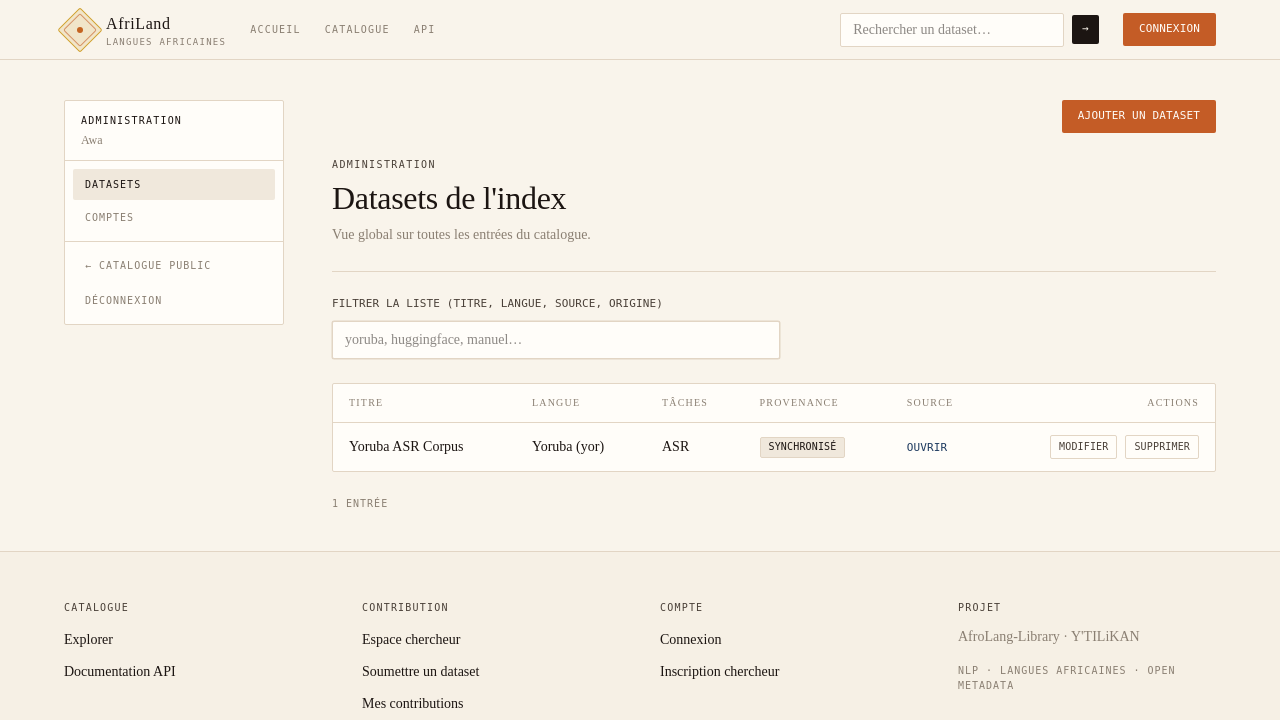
Test: DatasetAdminPanel (Story 4.3) › supprime un dataset après confirmation puis recharge la liste
Click the button with aria-label "Supprimer Yoruba ASR Corpus": [1162, 447] box [1126,435,1199,459]
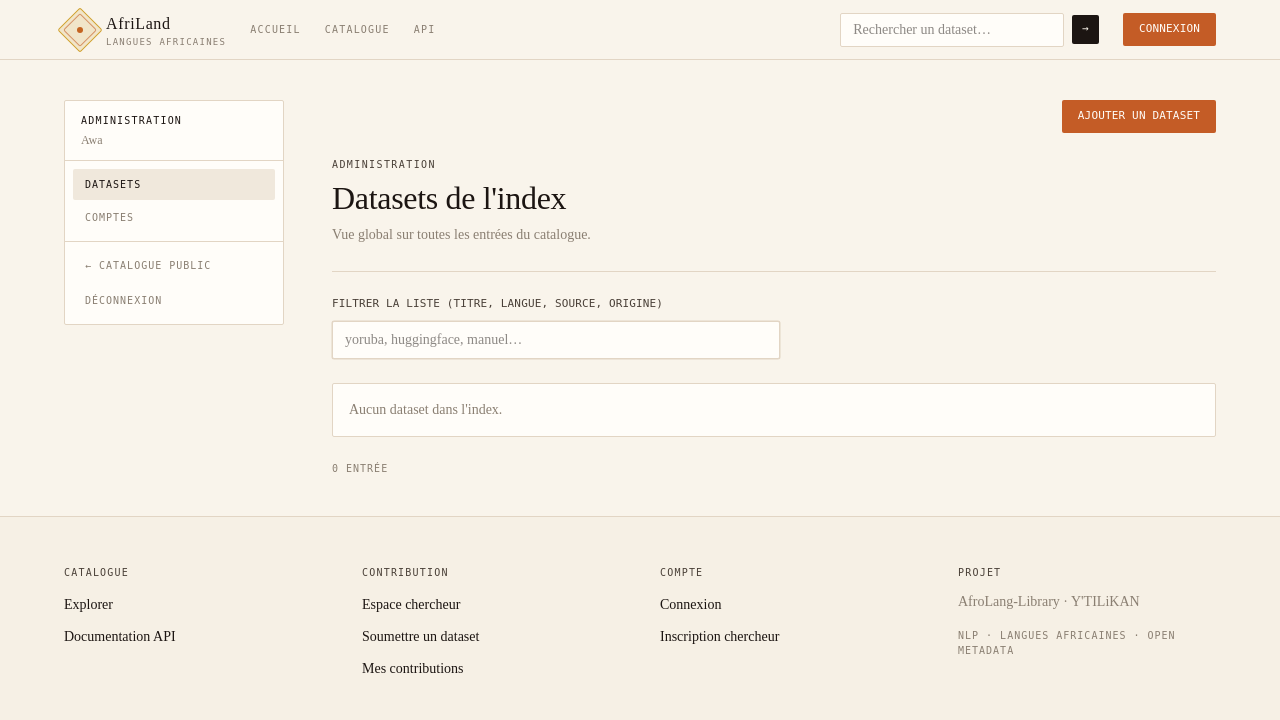
expect the text "Aucun dataset dans l'index." is shown: met, box [349,402,502,416]
